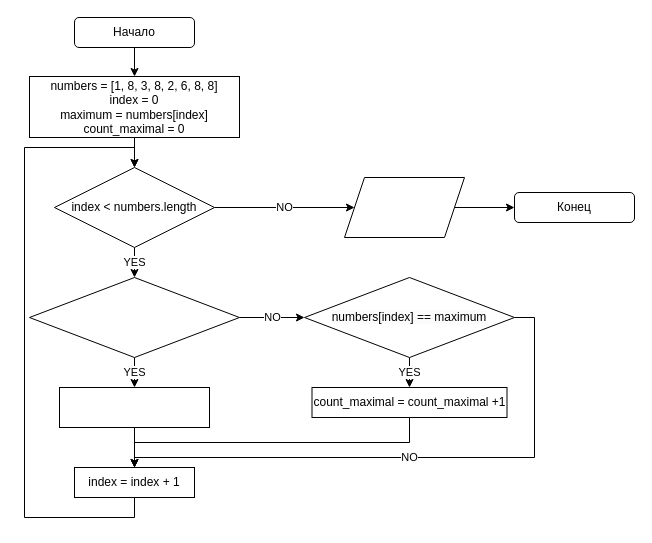
This 652x543 diagram has some shape labels left out. Each missing label, with the centre of its shape:
count_maximal: the point at 404,207
maximum = numbers[index] count_maximal = 1: the point at 134,407
numbers[index] > maximum: the point at 134,317
